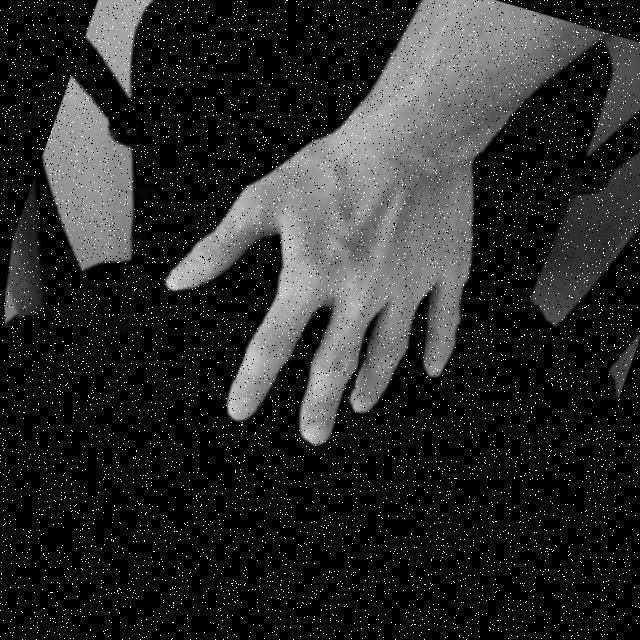no-gloves: (58, 19, 574, 568)
